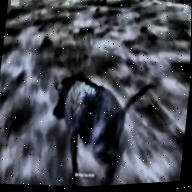boar: (41, 58, 158, 181)
